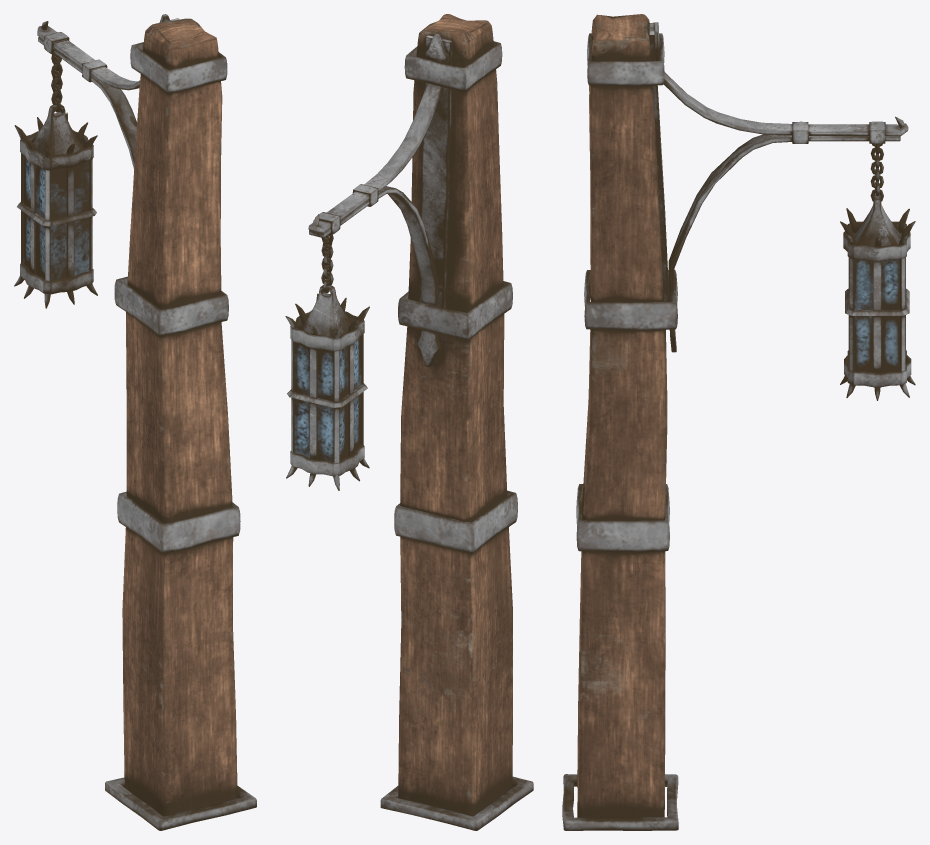
Rendered from medieval_lamp_post_mobile.glb.
3 views of the same model, side by side, from view 1: azimuth 30°, elevation 25°; view 2: azimuth 150°, elevation 25°; view 3: azimuth 270°, elevation 25° (orthographic).
Parts seen in each view (by area): view 1: Cube_M_Lamppost_0; view 2: Cube_M_Lamppost_0; view 3: Cube_M_Lamppost_0.
Part boxes in pixels (box(x1,y1,x2,y2)): Cube_M_Lamppost_0: box(14, 14, 256, 830); Cube_M_Lamppost_0: box(285, 14, 533, 830); Cube_M_Lamppost_0: box(562, 14, 915, 830).
Size of the model in its own units: 0.3355 by 2.51 by 1.02.
Materials: 1 (1 with a texture image).
